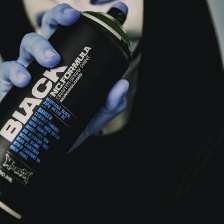aerosol_cans: (0, 2, 137, 222)
